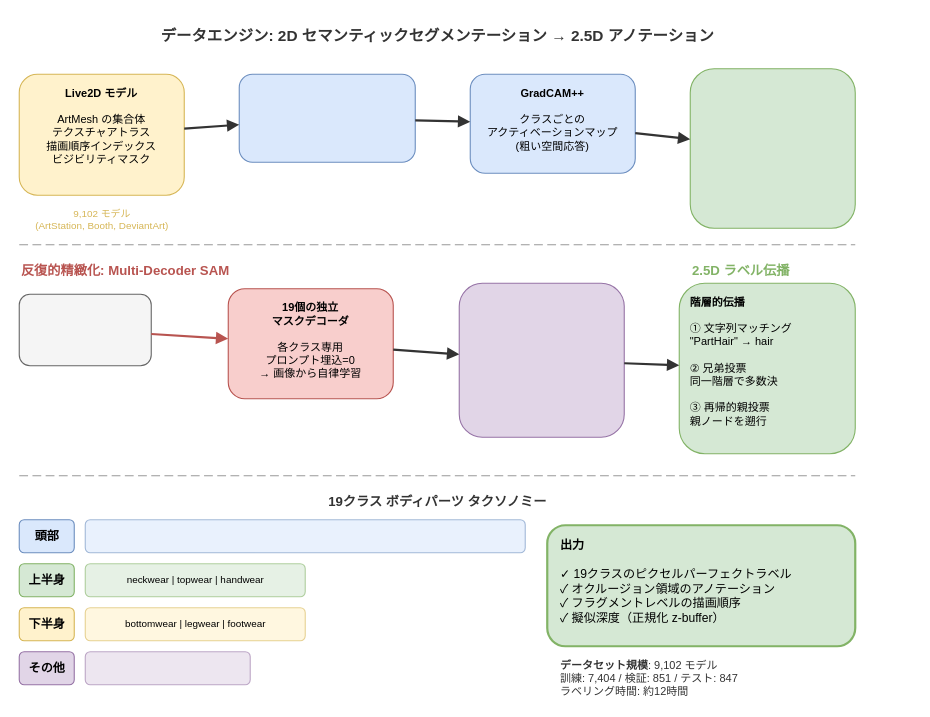
This 930x717 diagram has some shape labels left out. The box of each missing label's shape, as (x1, y1, x2, y2) in pixels:
ArtMesh ベース投票 各フラグメントの ビジビリティマスク内で アクティベーション平均 → 最大スコアクラス割当 ✓ ノイズ除去 ✓ 境界整合: (689, 68, 855, 228)
Danbooru タグ予測 wd-eva02-large-tagger-v3 → 視覚タグ自動付与: (238, 73, 415, 162)
hair | headwear | face | eyes | eyewear | ears | earwear | nose | mouth | neck: (84, 519, 525, 553)
SAM-HQ プロンプタブル デコーダ: (18, 293, 151, 366)
tail | wings | objects: (84, 651, 250, 685)
自己改善ループ GradCAM ラベル ↓ モデル予測 ↓ 教師信号更新 ↓ 反復的に精度向上: (458, 282, 624, 437)
